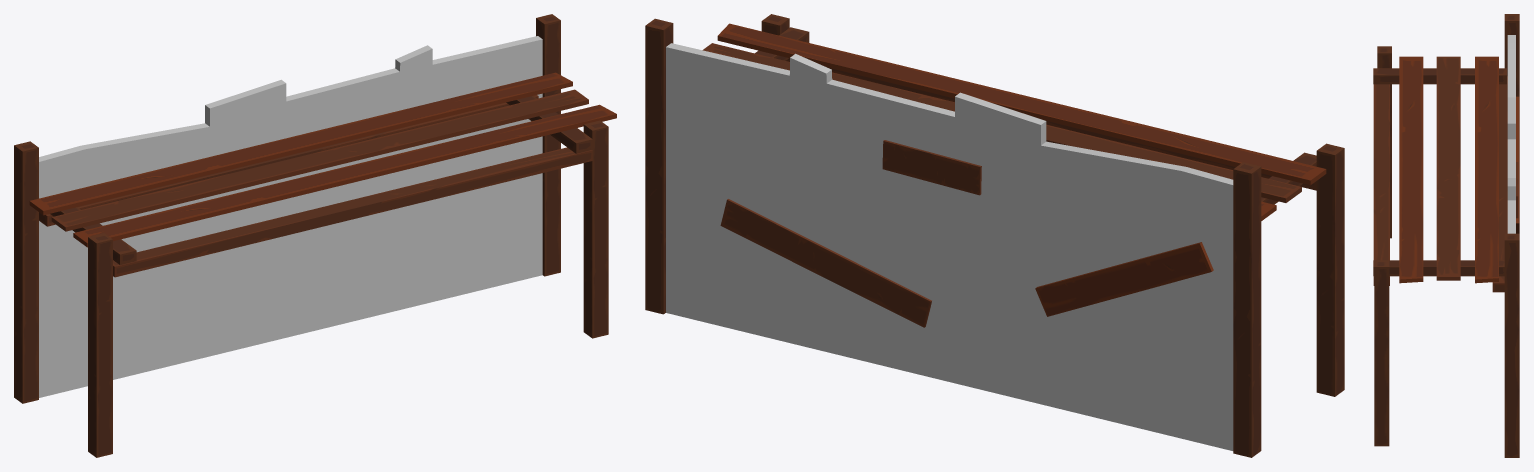
Rendered from Pallisade1.fbx.
3 views of the same model, side by side, from view 1: azimuth 30°, elevation 25°; view 2: azimuth 150°, elevation 25°; view 3: azimuth 270°, elevation 25° (orthographic). The views are drawn at different scales.
Parts seen in each view (by area): view 1: Pallisade1; view 2: Pallisade1; view 3: Pallisade1.
Part boxes in pixels (bbox=[...]): Pallisade1: bbox=[14, 14, 616, 457]; Pallisade1: bbox=[645, 14, 1344, 457]; Pallisade1: bbox=[1373, 14, 1519, 457].
Size of the model in its own units: 868 by 392 by 237.
